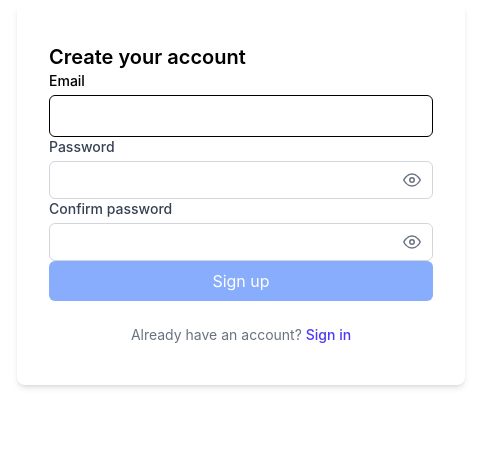
Test case: RegistrationForm › AC-9 / ERR-5: a server failure renders a single form-level alert and keeps the form filled
The width and height of the screenshot is (483, 450).
In the field labelled "Email": (241, 116) [49,95,433,137], type "new@example.com"
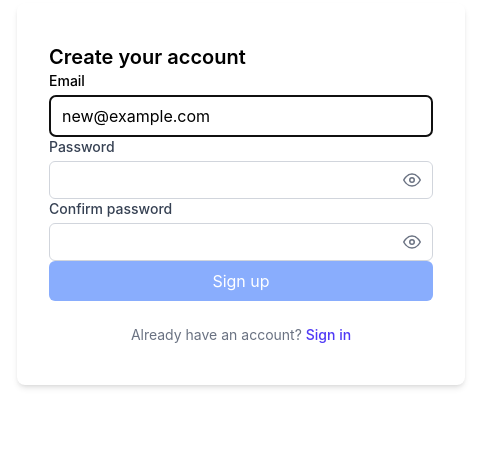
In the password field labelled "Password": (241, 180) [49,161,433,199], type "hunter2hunter2"
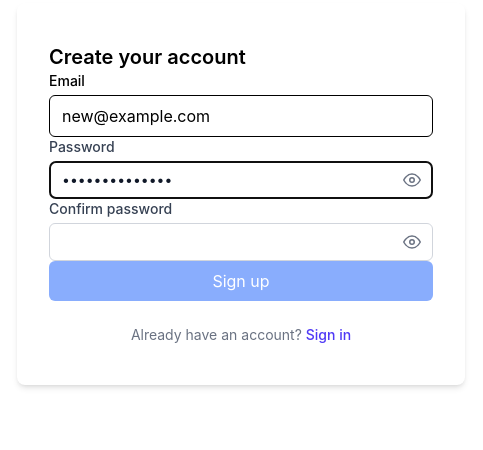
In the password field labelled "Confirm password": (241, 242) [49,223,433,261], type "hunter2hunter2"
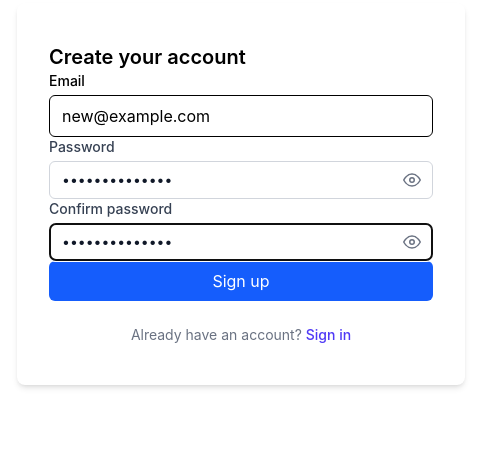
Click the button "Sign up": (241, 281) [49,261,433,301]
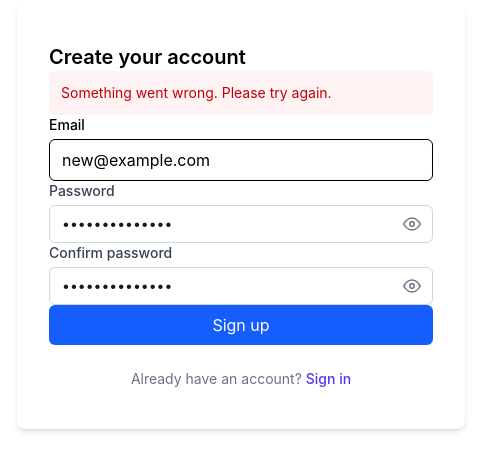
Expected: the button "Sign up" is enabled, [49,305,433,345]
Expected: the text "Something went wrong. Please try again." is shown, [49,71,433,115]
